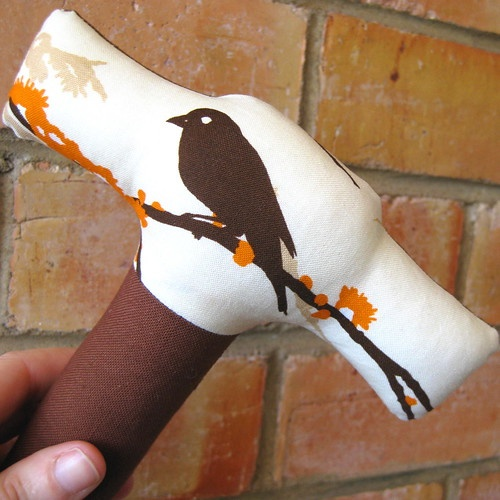hammer: (3, 9, 499, 462)
